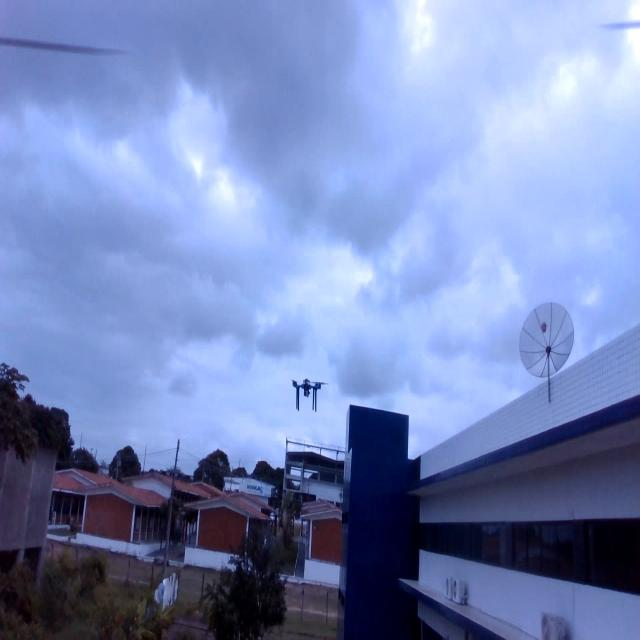-uav-: (282, 362, 331, 419)
